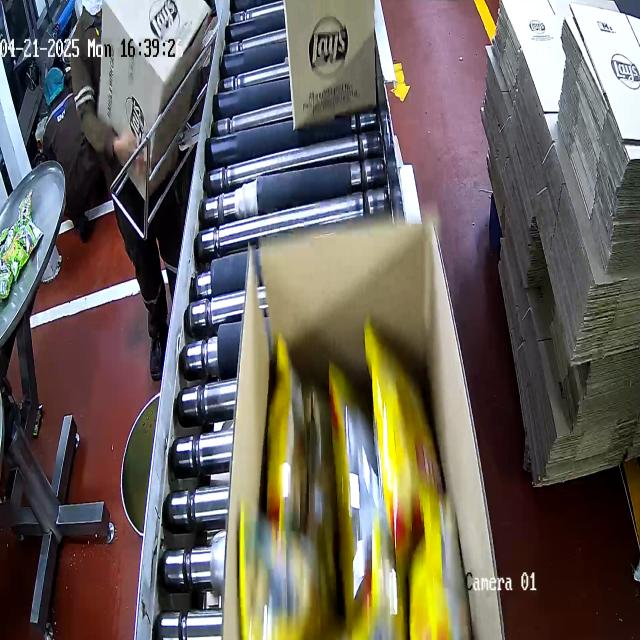SALTED: (237, 316, 469, 639)
